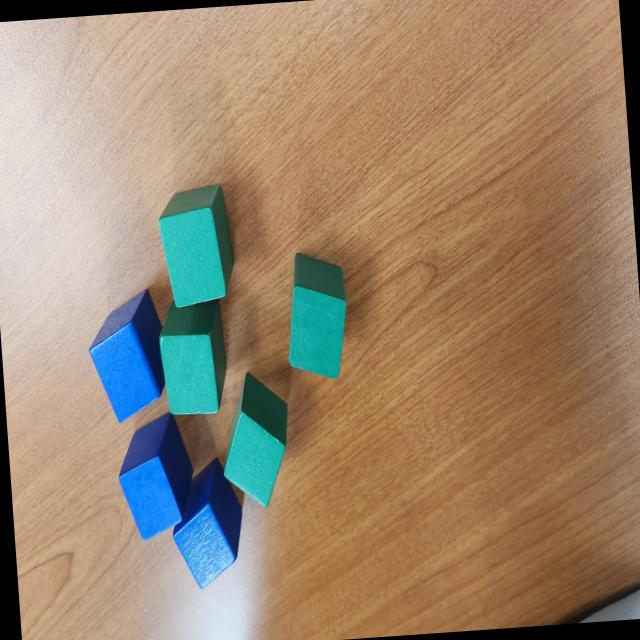blue: (84, 286, 169, 424), (114, 410, 198, 542), (166, 456, 248, 590)
green: (214, 369, 295, 509), (156, 182, 238, 308), (154, 296, 230, 420), (282, 249, 352, 383)
